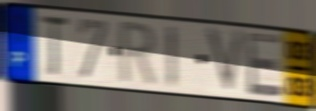7: (77, 16, 109, 82)
E: (244, 30, 286, 99)
I: (165, 23, 179, 91)
R: (118, 19, 160, 90)
T: (37, 15, 71, 79)
V: (203, 25, 248, 98)
